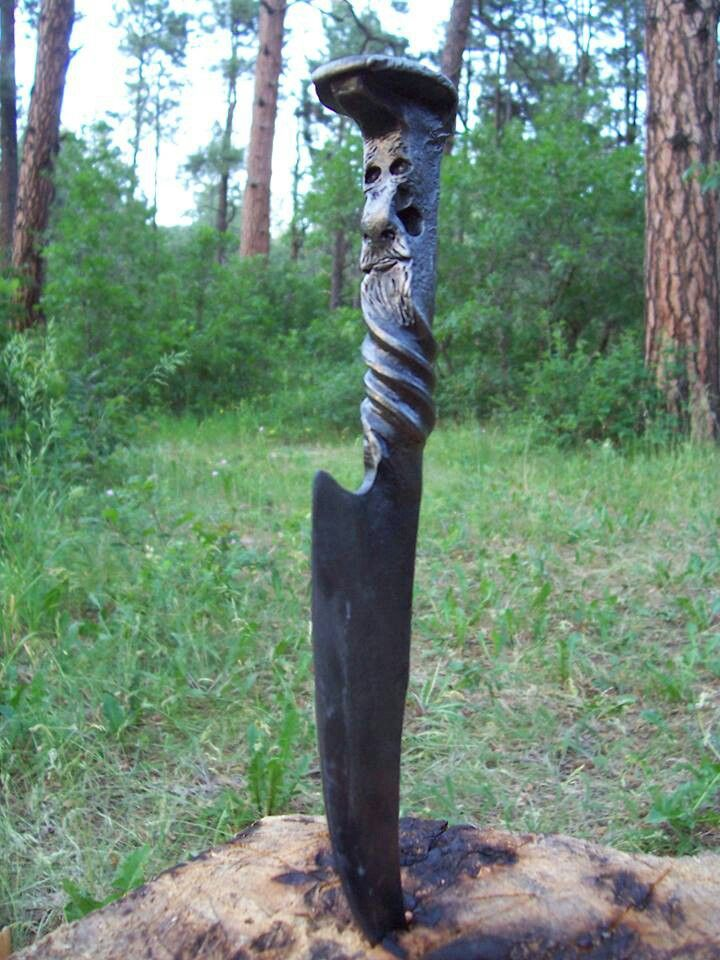knife: (289, 46, 471, 943)
